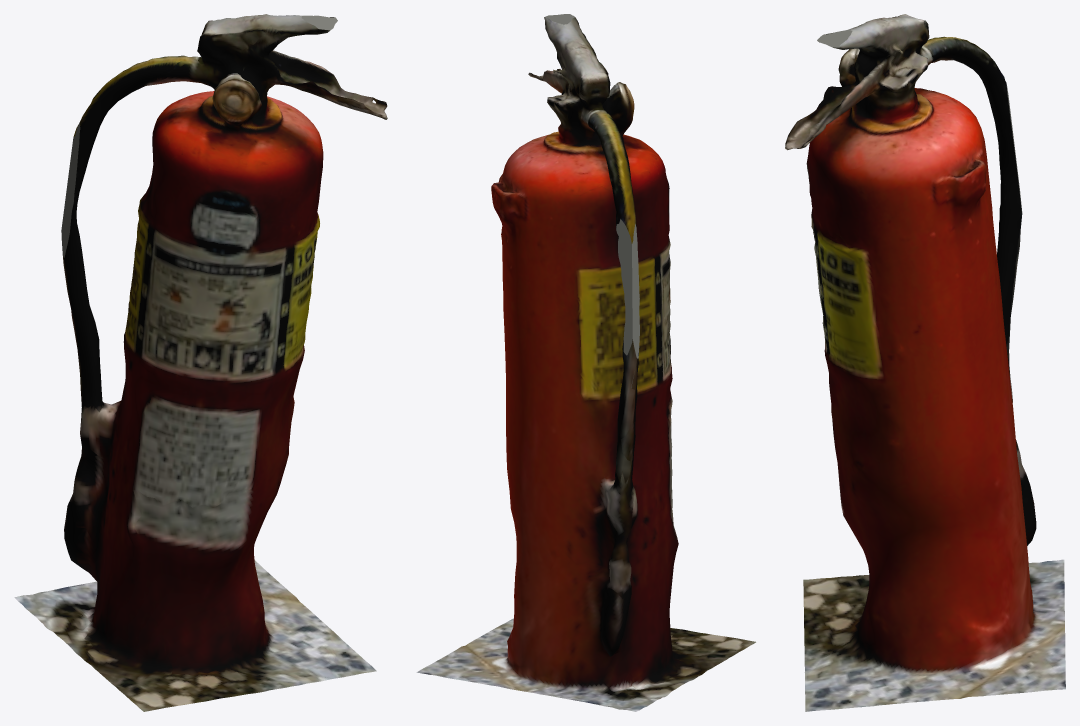
The model's file is fireextinguisher.glb.
3 views of the same model, side by side, from view 1: azimuth 30°, elevation 25°; view 2: azimuth 150°, elevation 25°; view 3: azimuth 270°, elevation 25° (orthographic). The views are drawn at different scales.
Visible parts, largest first — view 1: 3DModel; view 2: 3DModel; view 3: 3DModel.
Part boxes in pixels (box(x1,y1,x2,y2)): 3DModel: box(14, 14, 387, 711); 3DModel: box(416, 14, 755, 711); 3DModel: box(785, 14, 1065, 711).
Bounding box in the file's own units: 0.2236 × 0.5719 × 0.222.
Materials: 1 (1 with a texture image).
